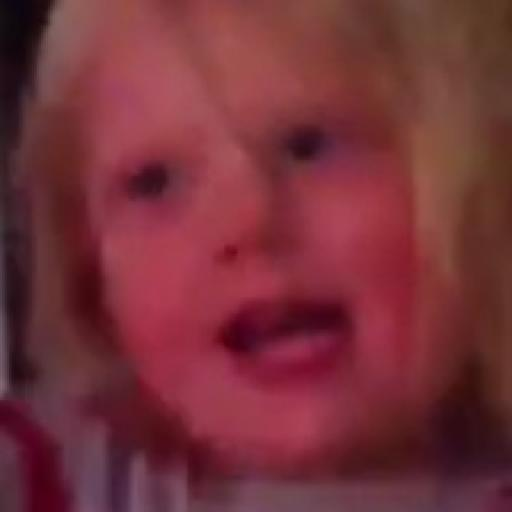Autism: (77, 51, 495, 481)
